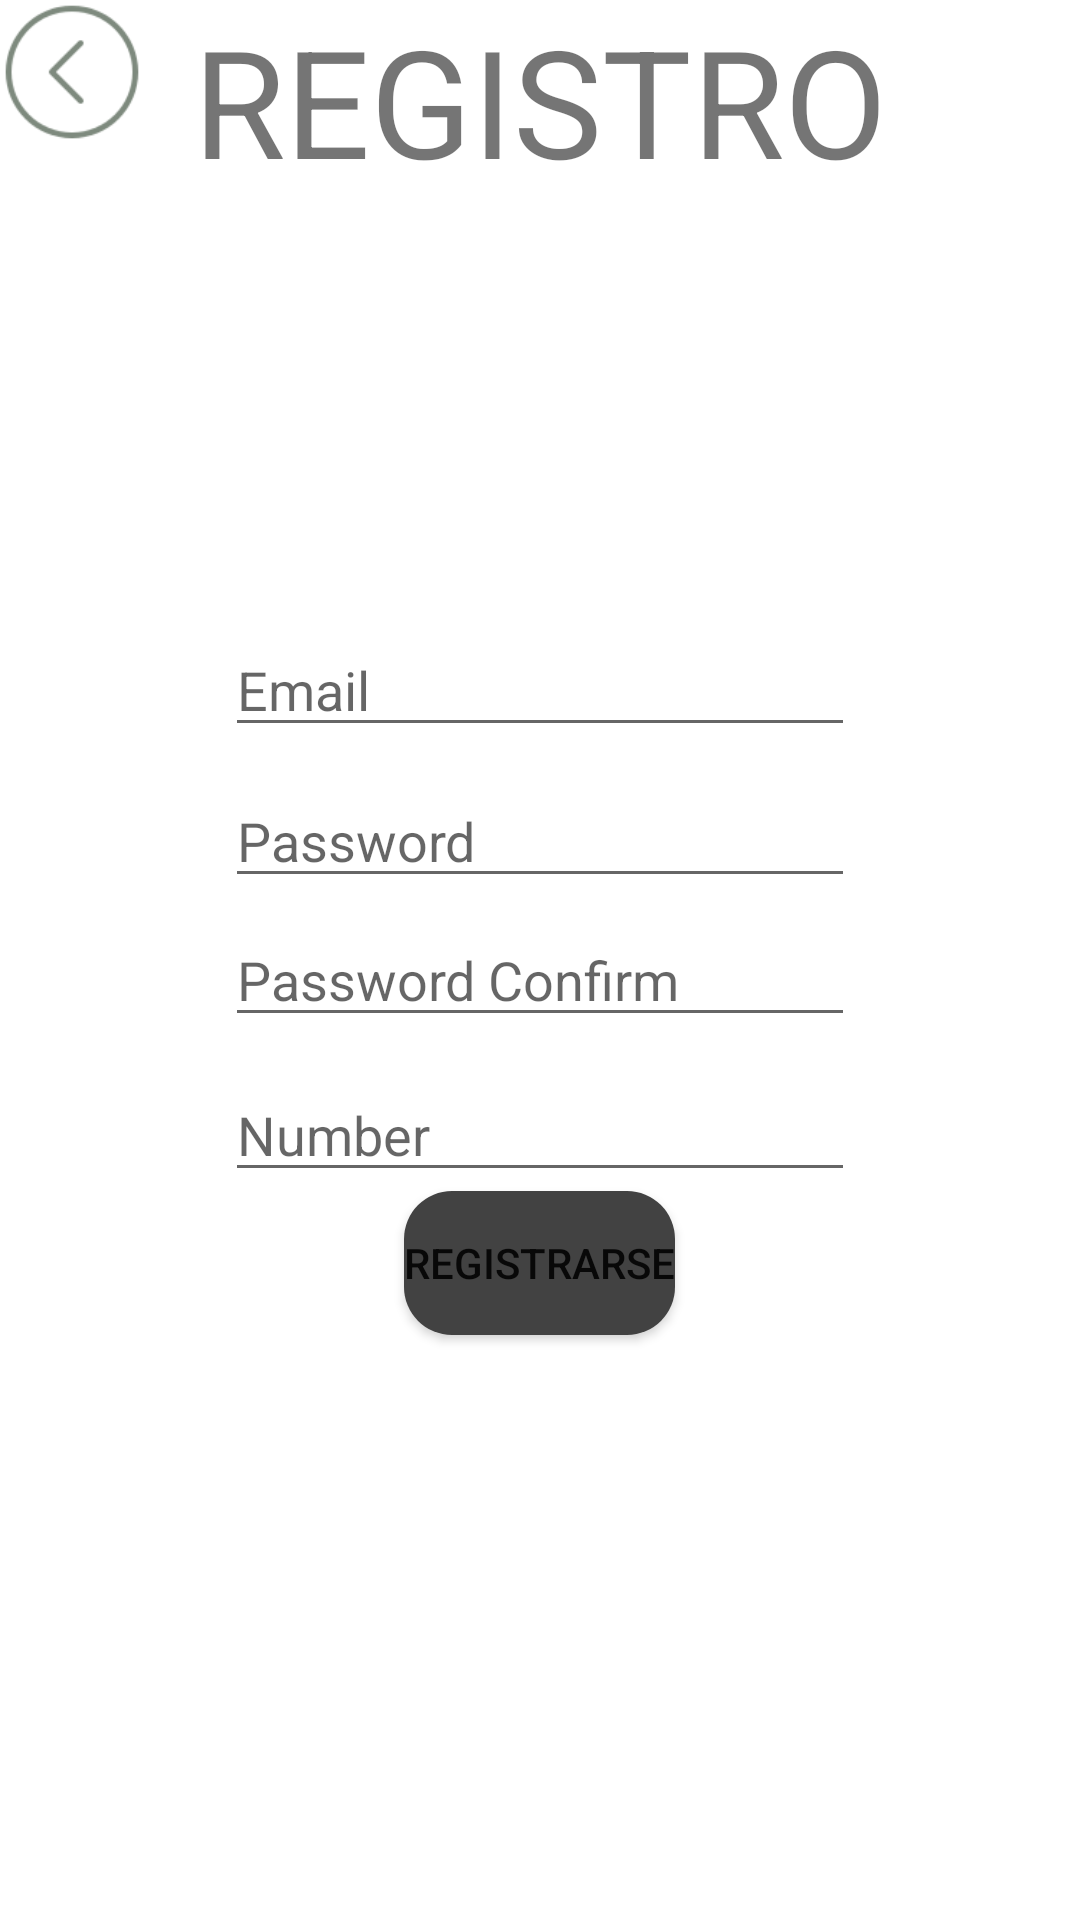

Named icons in this screenshot (1080px×1920px) and their centers, point (x, y):
go back: point (72, 72)
